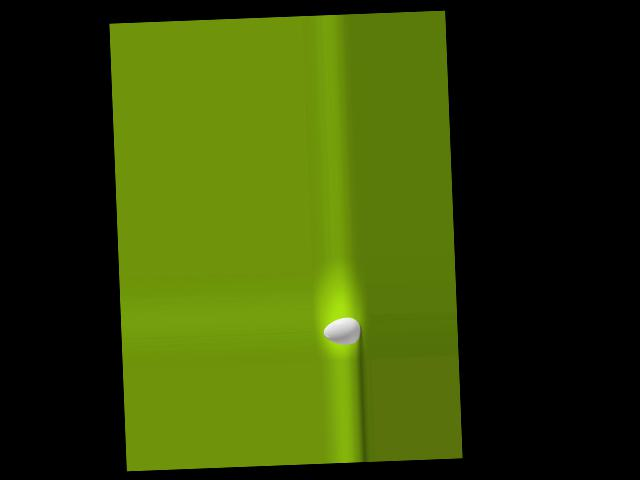egg: (322, 317, 361, 345)
